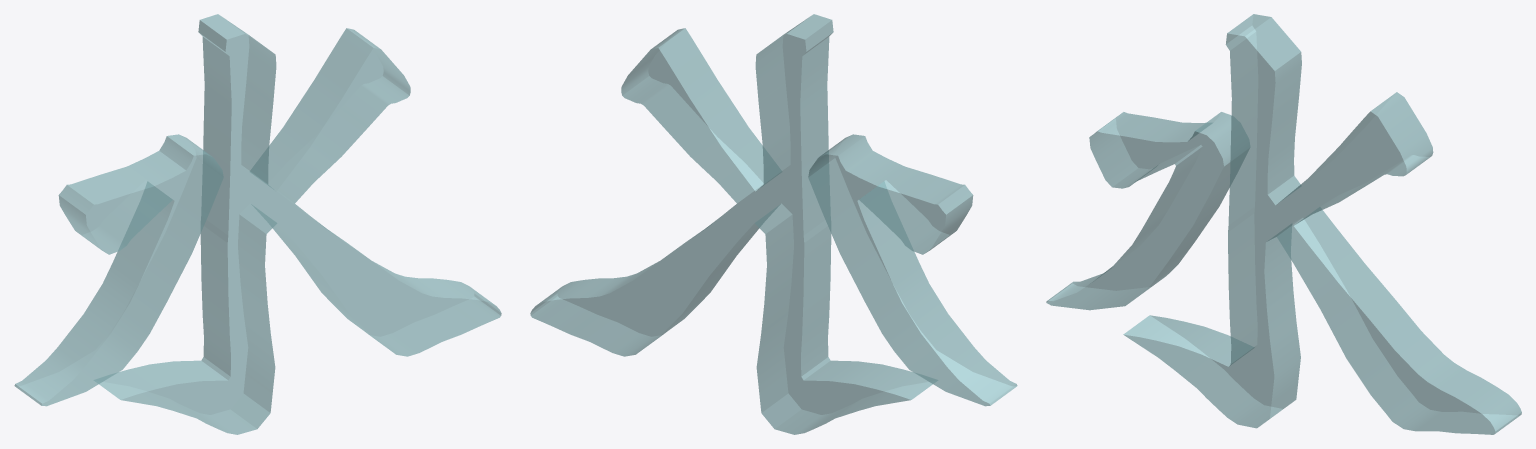
File: water_character_transparent_fbx.fbx
The picture shows the model from 3 angles, left to right: view 1: azimuth 30°, elevation 25°; view 2: azimuth 150°, elevation 25°; view 3: azimuth 330°, elevation 25°; orthographic projection. The views are drawn at different scales.
Parts seen in each view (by area): view 1: water; view 2: water; view 3: water.
Boxes of the visible parts, <box> form: water: <box>14,14,501,434</box>; water: <box>530,14,1017,434</box>; water: <box>1046,14,1521,434</box>.
Bounding box in the file's own units: 1.55 × 1.29 × 0.1583.
